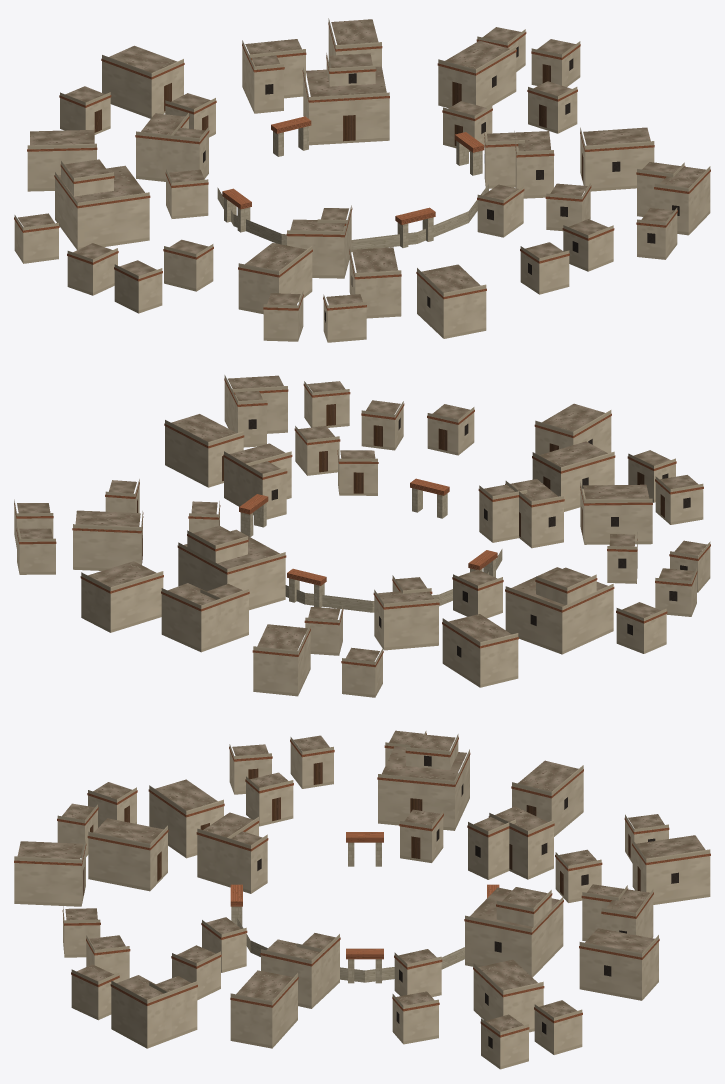
The model's file is ae_sand_neighbourhood_stone_lod2.glb.
3 views of the same model, one above another, from view 1: azimuth 30°, elevation 25°; view 2: azimuth 150°, elevation 25°; view 3: azimuth 270°, elevation 25° (orthographic). The views are drawn at different scales.
Parts seen in each view (by area): view 1: ae_sand_neighbourhood_stone_lod2; view 2: ae_sand_neighbourhood_stone_lod2; view 3: ae_sand_neighbourhood_stone_lod2.
Part boxes in pixels (bbox=[...]): ae_sand_neighbourhood_stone_lod2: bbox=[14, 18, 710, 342]; ae_sand_neighbourhood_stone_lod2: bbox=[14, 375, 710, 697]; ae_sand_neighbourhood_stone_lod2: bbox=[14, 730, 710, 1069].
Bounding box in the file's own units: 1.89 × 0.1882 × 1.82.
Materials: 1 (1 with a texture image).
